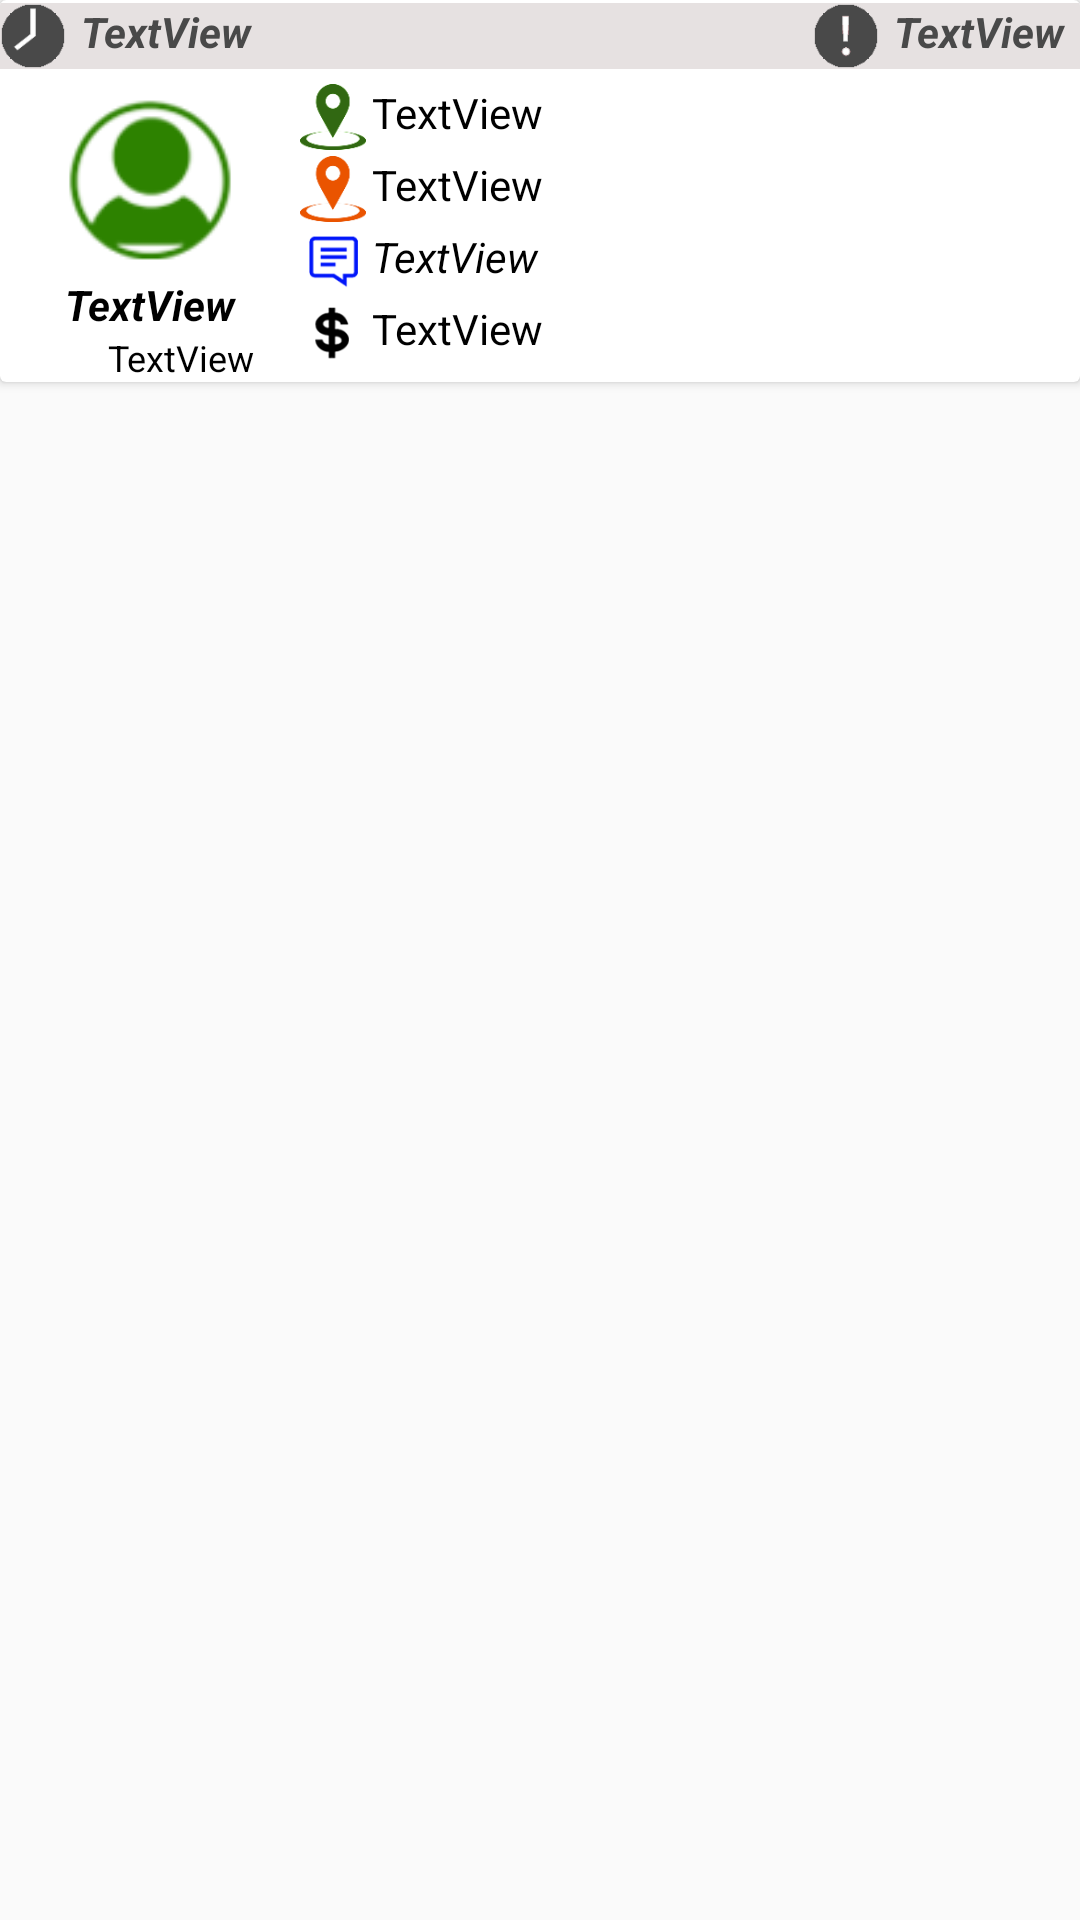

Point at icon controls on the screen. Image size 1080px x 1920px, points as (x=x, y=y).
precio: (x=332, y=333)
reloj: (x=33, y=36)
status: (x=846, y=36)
ubicacion: (x=333, y=117), (x=333, y=189)
user: (x=150, y=180)
